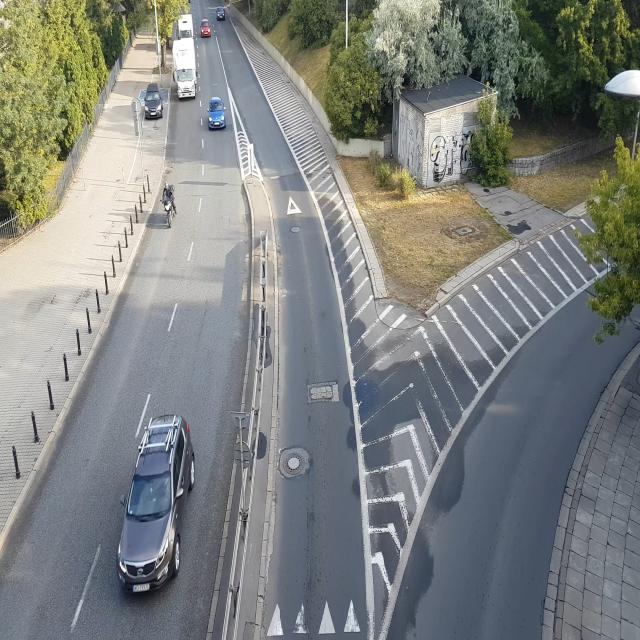car: (112, 407, 197, 605), (142, 86, 166, 121), (208, 100, 228, 132), (200, 20, 211, 36), (217, 9, 228, 21)
motorcycle: (160, 178, 180, 232)
truck: (173, 24, 200, 100), (178, 15, 195, 39)
